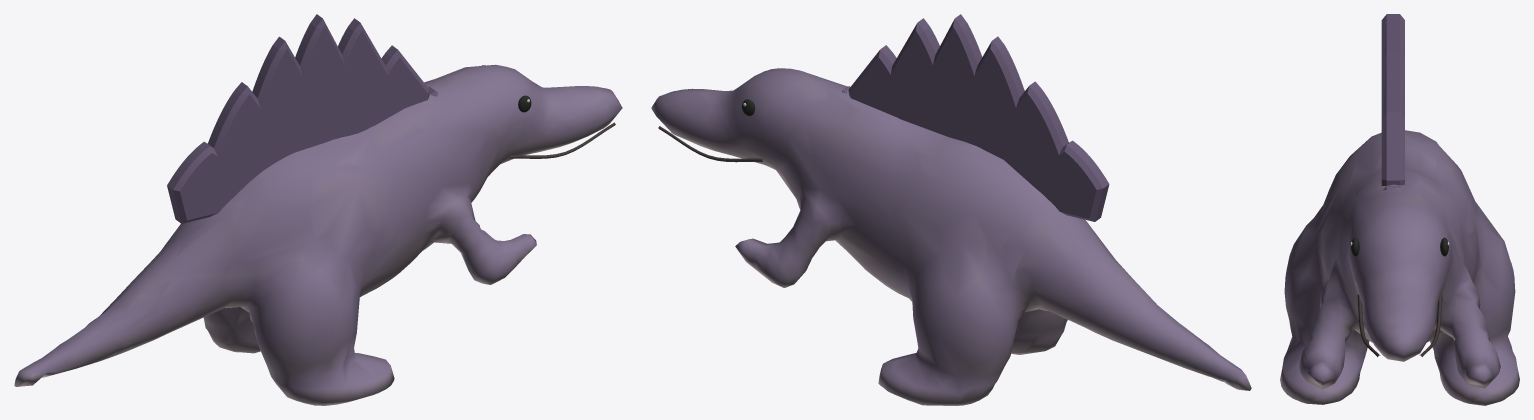
The model's file is spinosaurus.glb.
3 renders of one model, left to right at view 1: azimuth 30°, elevation 25°; view 2: azimuth 150°, elevation 25°; view 3: azimuth 270°, elevation 25°, orthographic. The views are drawn at different scales.
Visible parts, largest first — view 1: clay-toy; view 2: clay-toy; view 3: clay-toy.
Part boxes in pixels (x1=…): clay-toy: x1=14, y1=14, x2=622, y2=405; clay-toy: x1=651, y1=14, x2=1251, y2=405; clay-toy: x1=1280, y1=14, x2=1519, y2=405.
Size of the model in its own units: 3.7 by 2.08 by 1.18.
